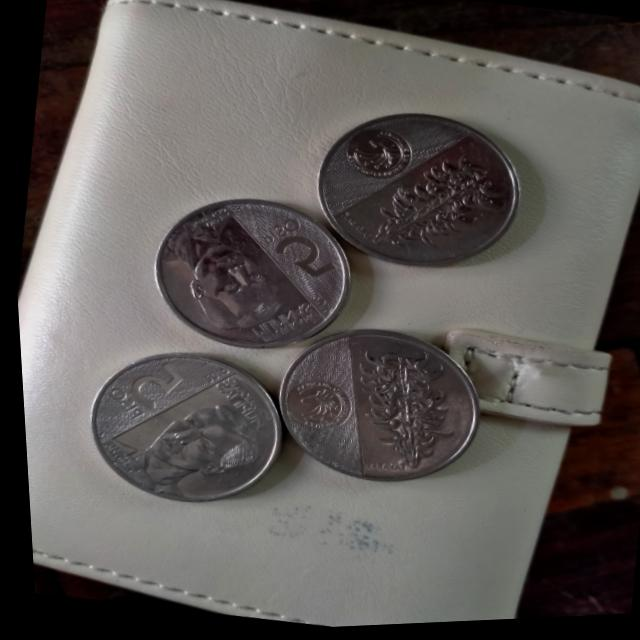5_New_Back: (351, 142, 519, 286), (331, 338, 469, 498)
5_New_Front: (82, 346, 202, 436), (242, 213, 349, 296)
